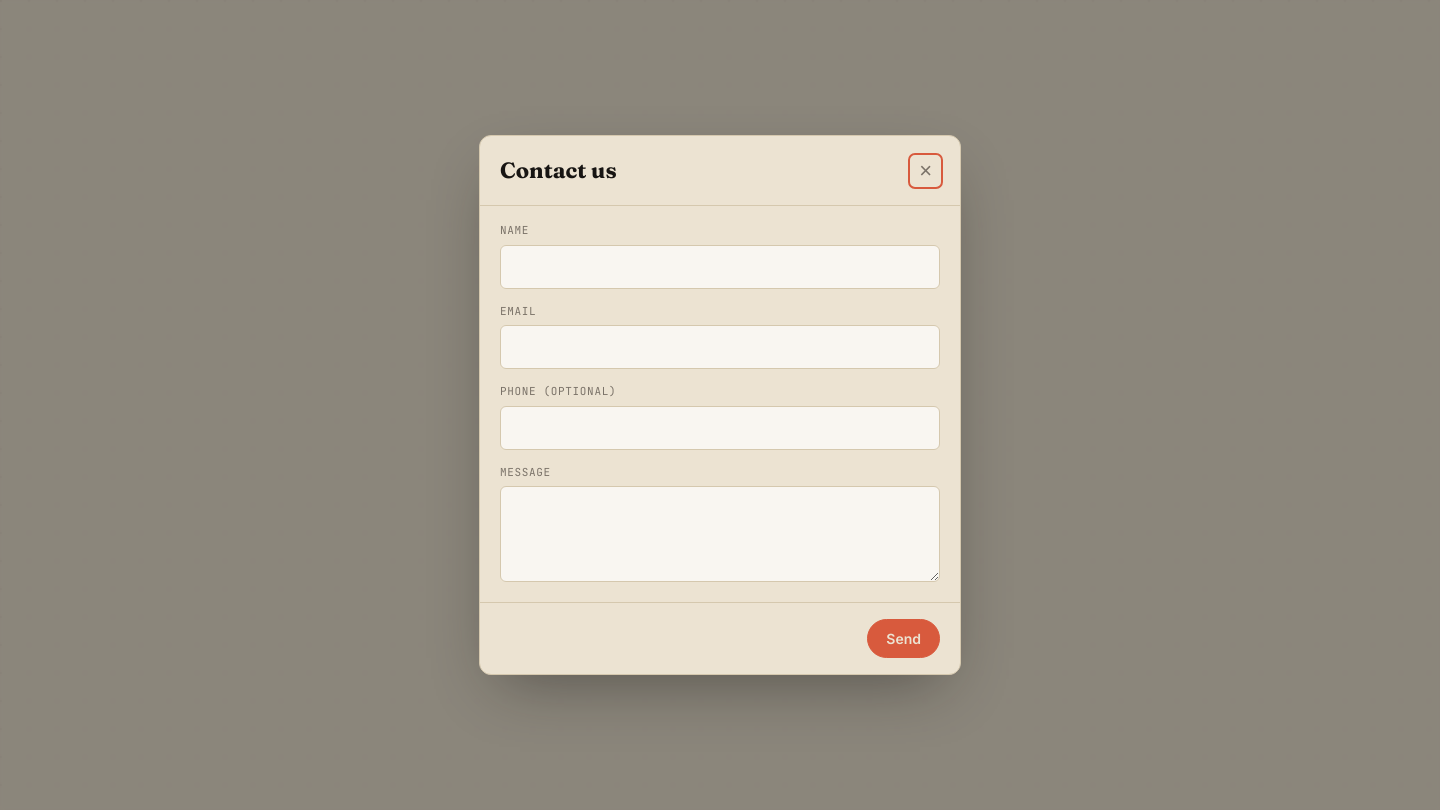
Test: ContactDialog › shows an error message when the submit fails
Type "Ada" into the field labelled "Name" at (720, 266), box top-left (500, 244), bottom-right (940, 288)
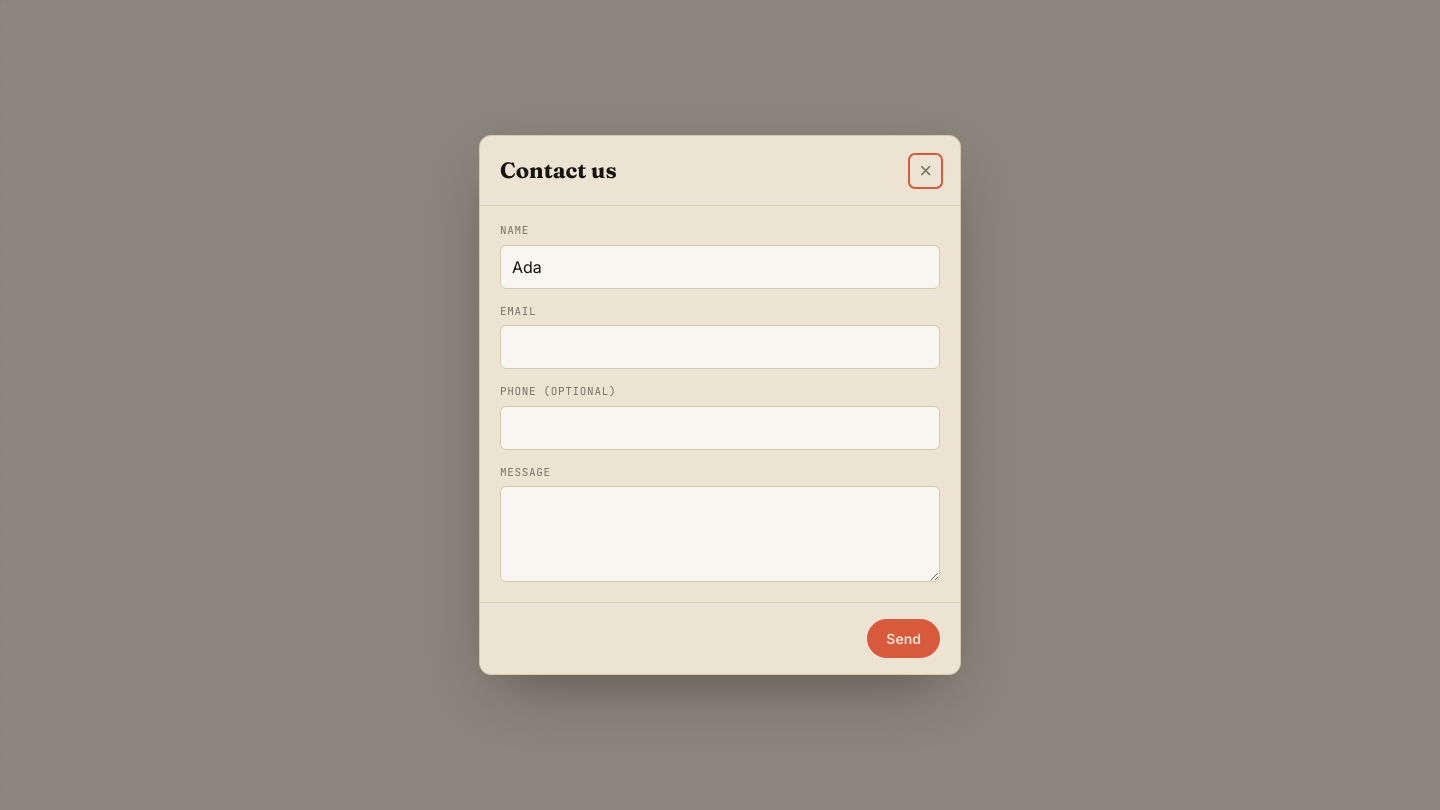
Type "ada@example.com" into the field labelled "Email" at (720, 347), box top-left (500, 325), bottom-right (940, 369)
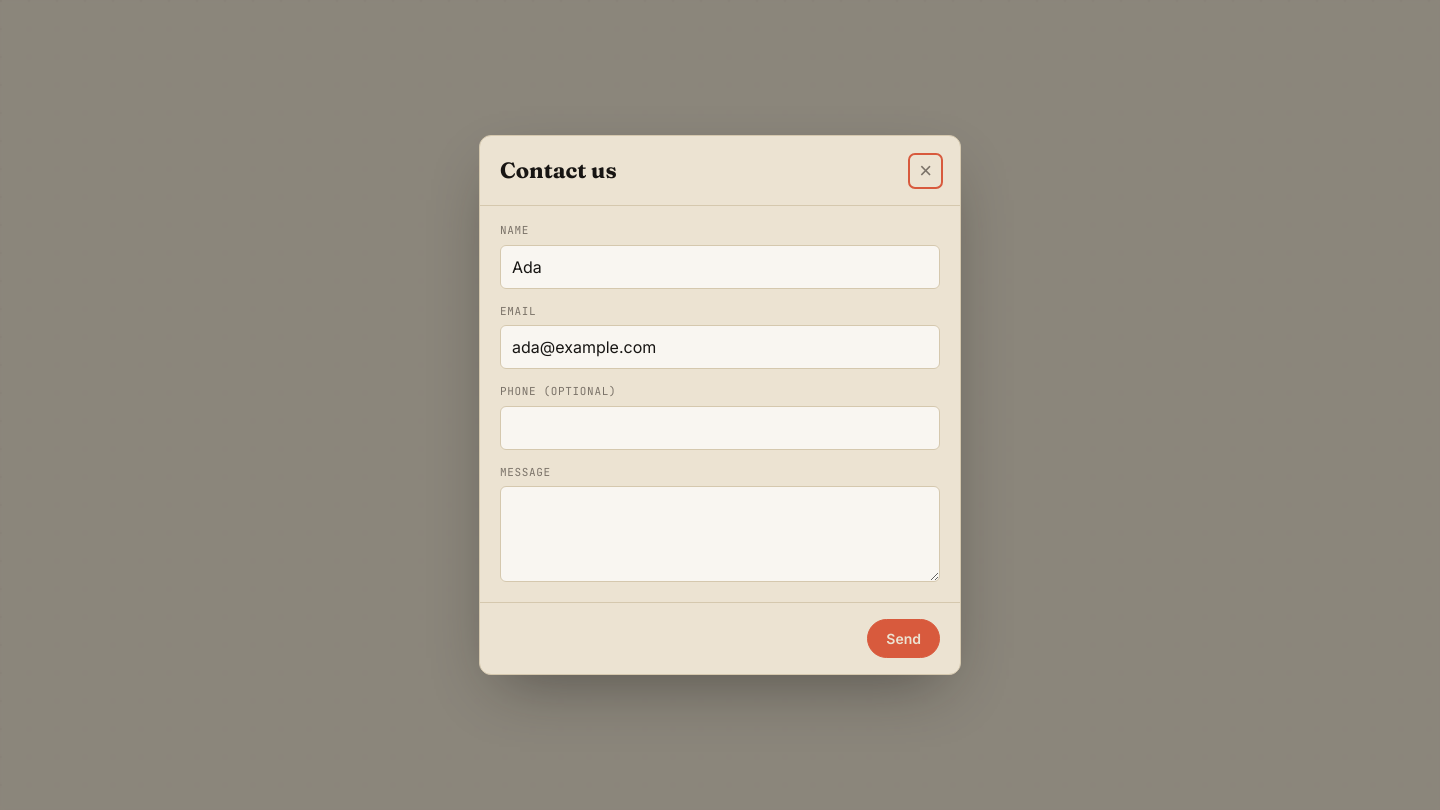
Type "hi" into the text box labelled "Message" at (720, 534), box top-left (500, 486), bottom-right (940, 582)
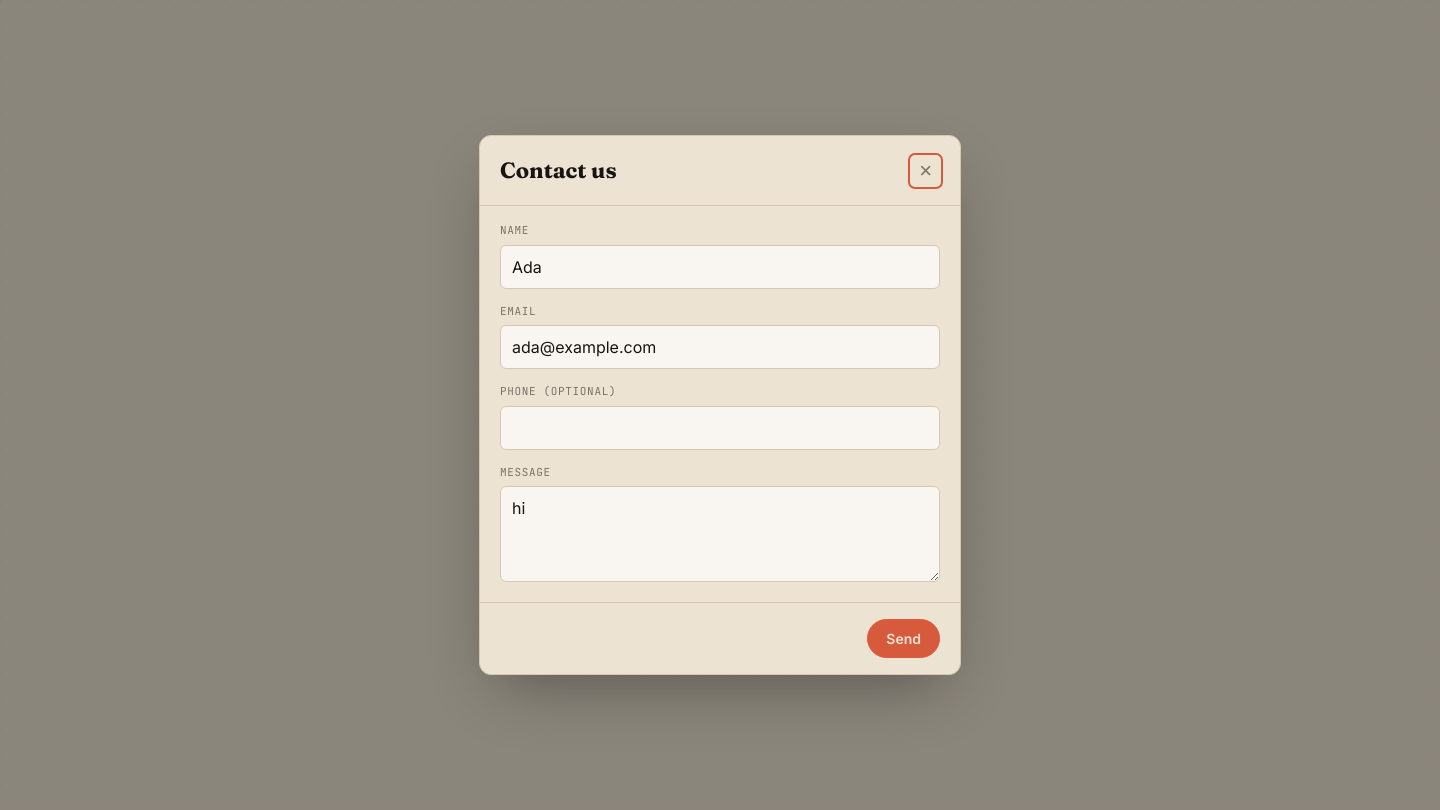
Click the button "Send" at (904, 638), box top-left (867, 619), bottom-right (940, 658)
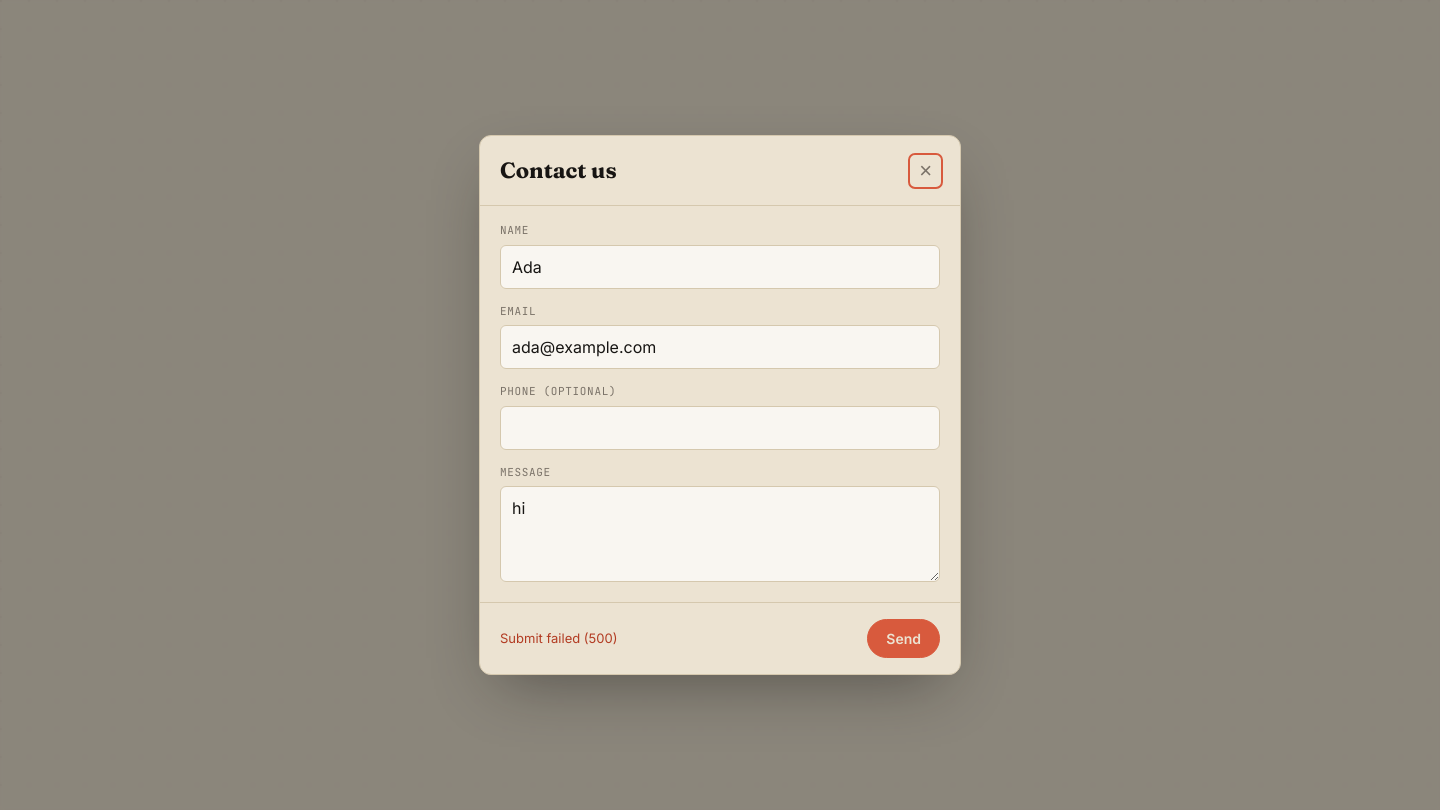
Check: the message reads "Submit failed (500)", box top-left (500, 630), bottom-right (617, 646)
